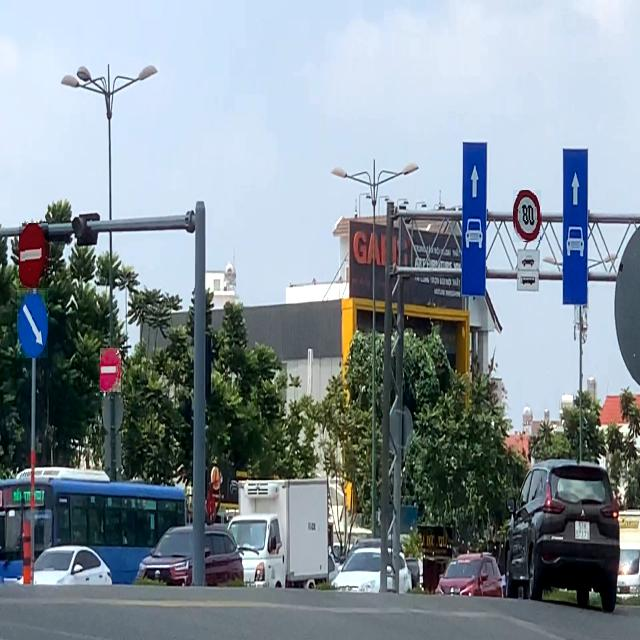18: (514, 190, 542, 242)
27: (17, 290, 48, 358)
bien_chi_dan: (20, 223, 50, 288), (100, 348, 121, 392)
